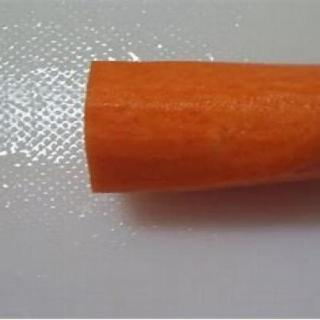carrot: (74, 41, 320, 207)
